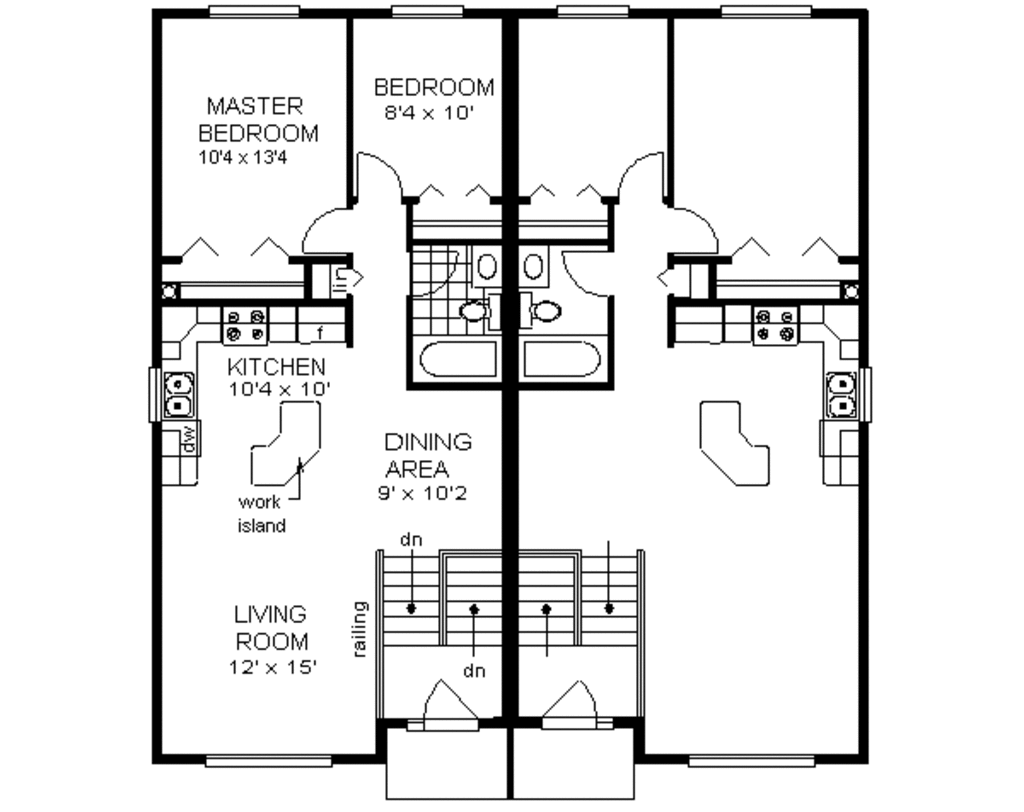door: (536, 676, 622, 730), (602, 140, 669, 206), (411, 681, 488, 737), (560, 240, 616, 296), (667, 202, 722, 255), (355, 146, 405, 201), (297, 209, 349, 257)
large_sink: (516, 287, 565, 332), (448, 298, 497, 334)
small_sink: (512, 241, 553, 287), (468, 246, 500, 290)
stairs: (515, 539, 652, 675), (371, 538, 501, 680)
tub: (515, 335, 611, 380), (409, 334, 500, 381)
twin_sink: (817, 369, 859, 424), (158, 369, 201, 420)
window: (202, 746, 337, 770), (684, 748, 816, 769), (549, 2, 631, 23), (199, 3, 307, 18), (721, 3, 809, 18), (394, 3, 459, 19)
